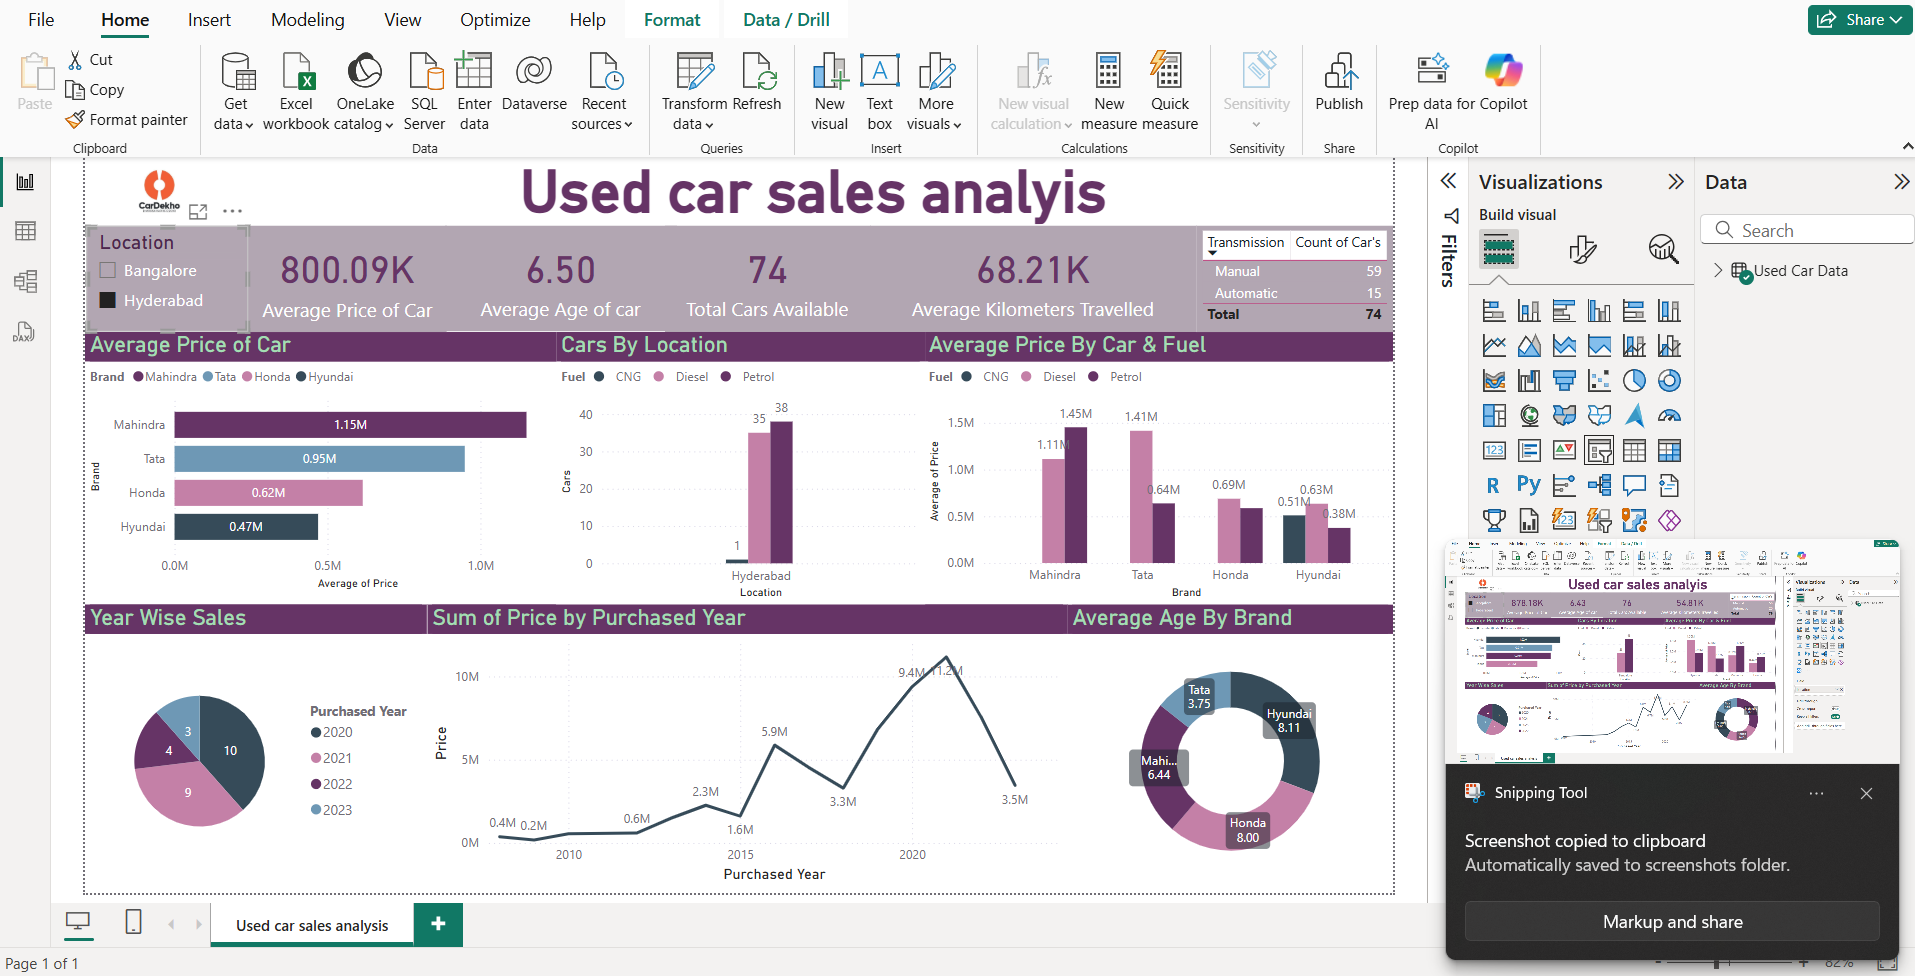

The dashboard page shown, as its layout file describes it:
{"tool":"powerbi","page":{"name":"Used car sales analysis","canvas":[1280,720],"ordinal":0},"visuals":[{"type":"barChart","title":"Average Price of Car","fields":{"Category":["Used Car Data.Car Company"],"Y":["Avg(Used Car Data.Price)"],"Series":["Used Car Data.Car Company"]},"box":[0,171.2,465.9,256.8],"z":0},{"type":"textbox","title":"Used car sales analyis","box":[145.3,0,1134.9,67.4],"z":1000},{"type":"pieChart","title":"Year Wise Sales","fields":{"Category":["Used Car Data.Purchased Year","Used Car Data.Car Company"],"Y":["CountNonNull(Used Car Data.Car Company)"]},"box":[0,437.3,334.8,282.9],"z":2000},{"type":"card","fields":{"Values":["Avg(Used Car Data.Age of car)"]},"box":[352.3,67.4,226.7,103.5],"z":3000},{"type":"card","fields":{"Values":["Avg(Used Car Data.Price)"]},"box":[160.2,67.3,193.2,103.9],"z":4000},{"type":"card","fields":{"Values":["CountNonNull(Used Car Data.Car Name)"]},"box":[566.9,67.6,200.6,103.7],"z":5000},{"type":"card","fields":{"Values":["Avg(Used Car Data.Kilometers Travelled)"]},"box":[767.6,67.6,319,103.7],"z":6000},{"type":"donutChart","title":"Average Age By Brand","fields":{"Category":["Used Car Data.Car Company"],"Y":["Avg(Used Car Data.Age of car)"]},"box":[961.4,437.3,319,282.9],"z":7000},{"type":"clusteredColumnChart","title":"Average Price By Car & Fuel","fields":{"Series":["Used Car Data.Fuel"],"Category":["Used Car Data.Car Company"],"Y":["Avg(Used Car Data.Price)"]},"box":[820.5,171.3,459.9,266],"z":8000},{"type":"slicer","fields":{"Values":["Used Car Data.Location"]},"box":[1.2,67.4,159.3,103.5],"z":9000},{"type":"image","box":[0,0,145.3,67.4],"z":10000},{"type":"lineChart","fields":{"Y":["Sum(Used Car Data.Price)"],"Category":["Used Car Data.Purchased Year"]},"box":[334.8,437.3,626.7,277.3],"z":11000},{"type":"clusteredColumnChart","title":"Cars By Location","fields":{"Category":["Used Car Data.Location"],"Y":["CountNonNull(Used Car Data.Car Name)"],"Series":["Used Car Data.Fuel"]},"box":[460.5,170.9,360.5,266.3],"z":12000},{"type":"tableEx","fields":{"Values":["Used Car Data.Transmission","Used Car Data.Car Company"]},"box":[1087.1,67.3,193.2,103.9],"z":13000}]}

Visuals, with their boxes on the page's 1280x720 design canvas (x1, y1, x2, y2). These are canvas units, not pixel positions in the 1915x976 screenshot, which may show the page scaled, cropped or inside an application window:
"Average Price of Car" barChart: 0,171,466,428
"Used car sales analyis" textbox: 145,0,1280,67
"Year Wise Sales" pieChart: 0,437,335,720
card - Avg(Used Car Data.Age of car): 352,67,579,171
card - Avg(Used Car Data.Price): 160,67,353,171
card - CountNonNull(Used Car Data.Car Name): 567,68,768,171
card - Avg(Used Car Data.Kilometers Travelled): 768,68,1087,171
"Average Age By Brand" donutChart: 961,437,1280,720
"Average Price By Car & Fuel" clusteredColumnChart: 820,171,1280,437
slicer - Used Car Data.Location: 1,67,160,171
image: 0,0,145,67
lineChart - Sum(Used Car Data.Price) x Used Car Data.Purchased Year: 335,437,962,715
"Cars By Location" clusteredColumnChart: 460,171,821,437
tableEx - Used Car Data.Transmission x Used Car Data.Car Company: 1087,67,1280,171
